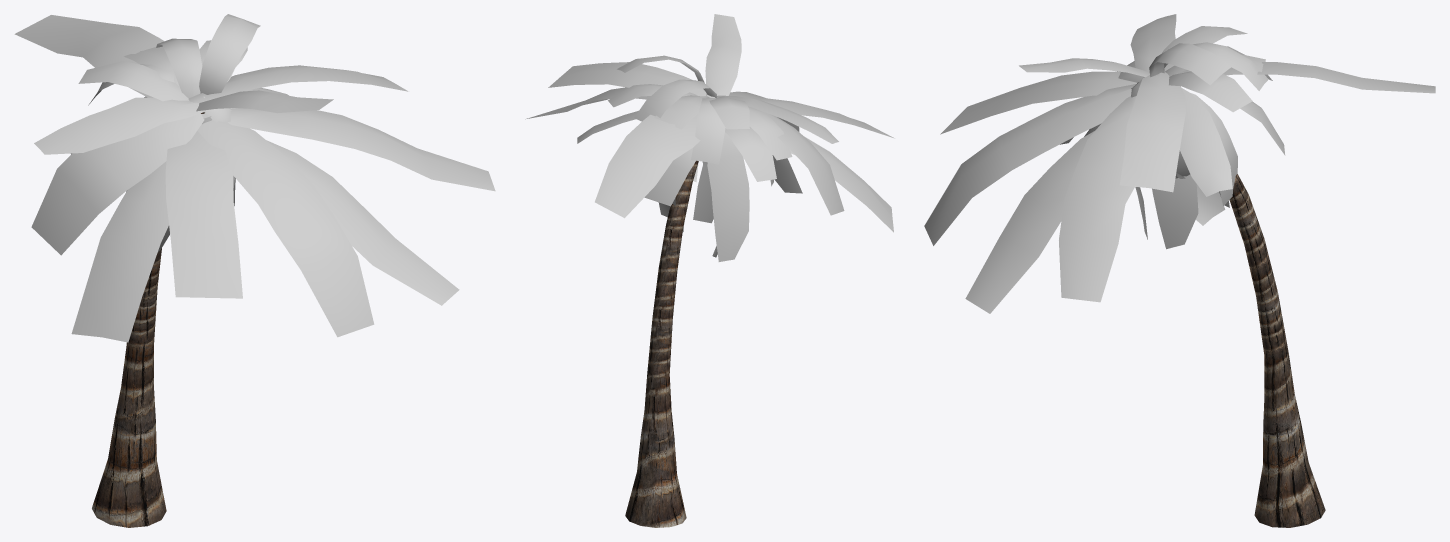
File: pfpalm01.fbx
3 views of the same model, side by side, from view 1: azimuth 30°, elevation 25°; view 2: azimuth 150°, elevation 25°; view 3: azimuth 270°, elevation 25° (orthographic). The views are drawn at different scales.
Parts seen in each view (by area): view 1: leaves__2, mopalm02; view 2: leaves__2, mopalm02; view 3: leaves__2, mopalm02.
Part boxes in pixels (<box>): leaves__2: <box>14,14,495,342</box>; mopalm02: <box>92,112,204,527</box>; leaves__2: <box>525,14,894,261</box>; mopalm02: <box>625,160,698,527</box>; leaves__2: <box>924,14,1435,313</box>; mopalm02: <box>1229,174,1325,527</box>.
Size of the model in its own units: 38.32 by 43.28 by 41.08.
